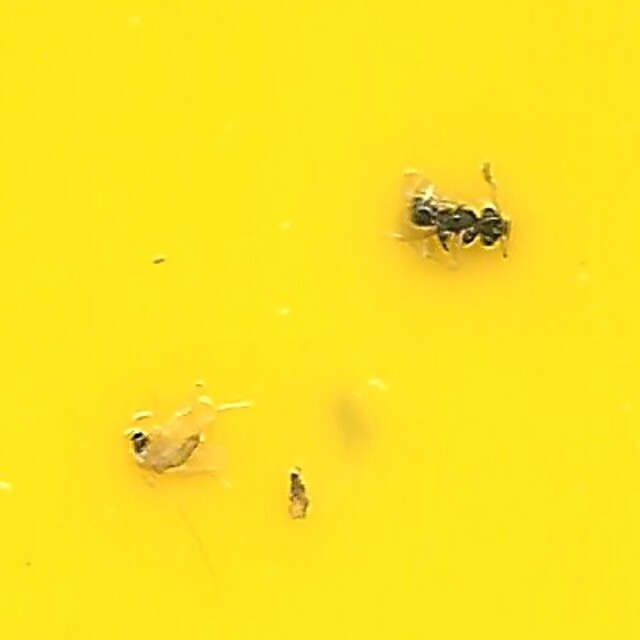Hymenoptera: (392, 159, 512, 264)
Nematocera: (128, 397, 204, 481)
